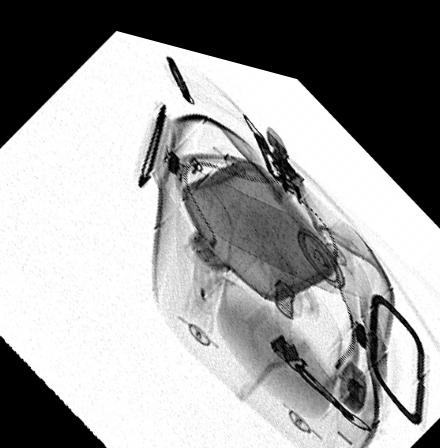Sprayer: (182, 155, 372, 278)
